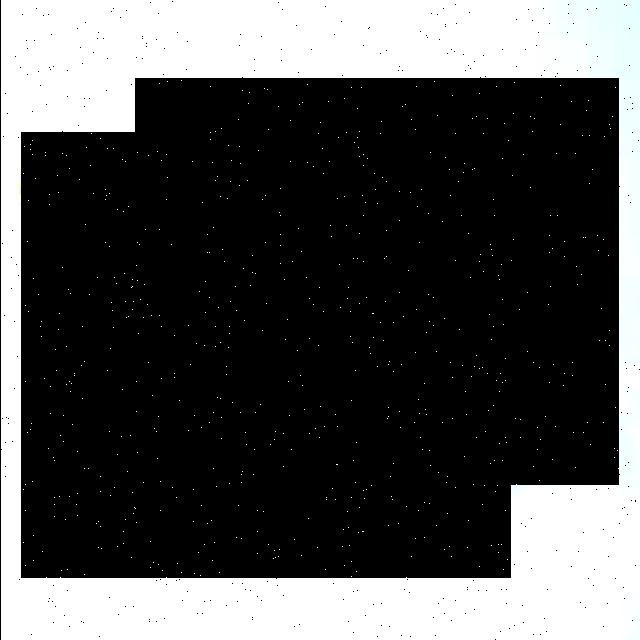Sponge_Gourd: (21, 132, 511, 578), (135, 78, 619, 485)
